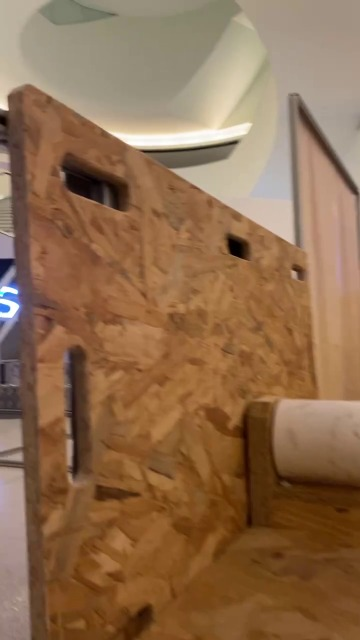curtain: (288, 90, 360, 397)
